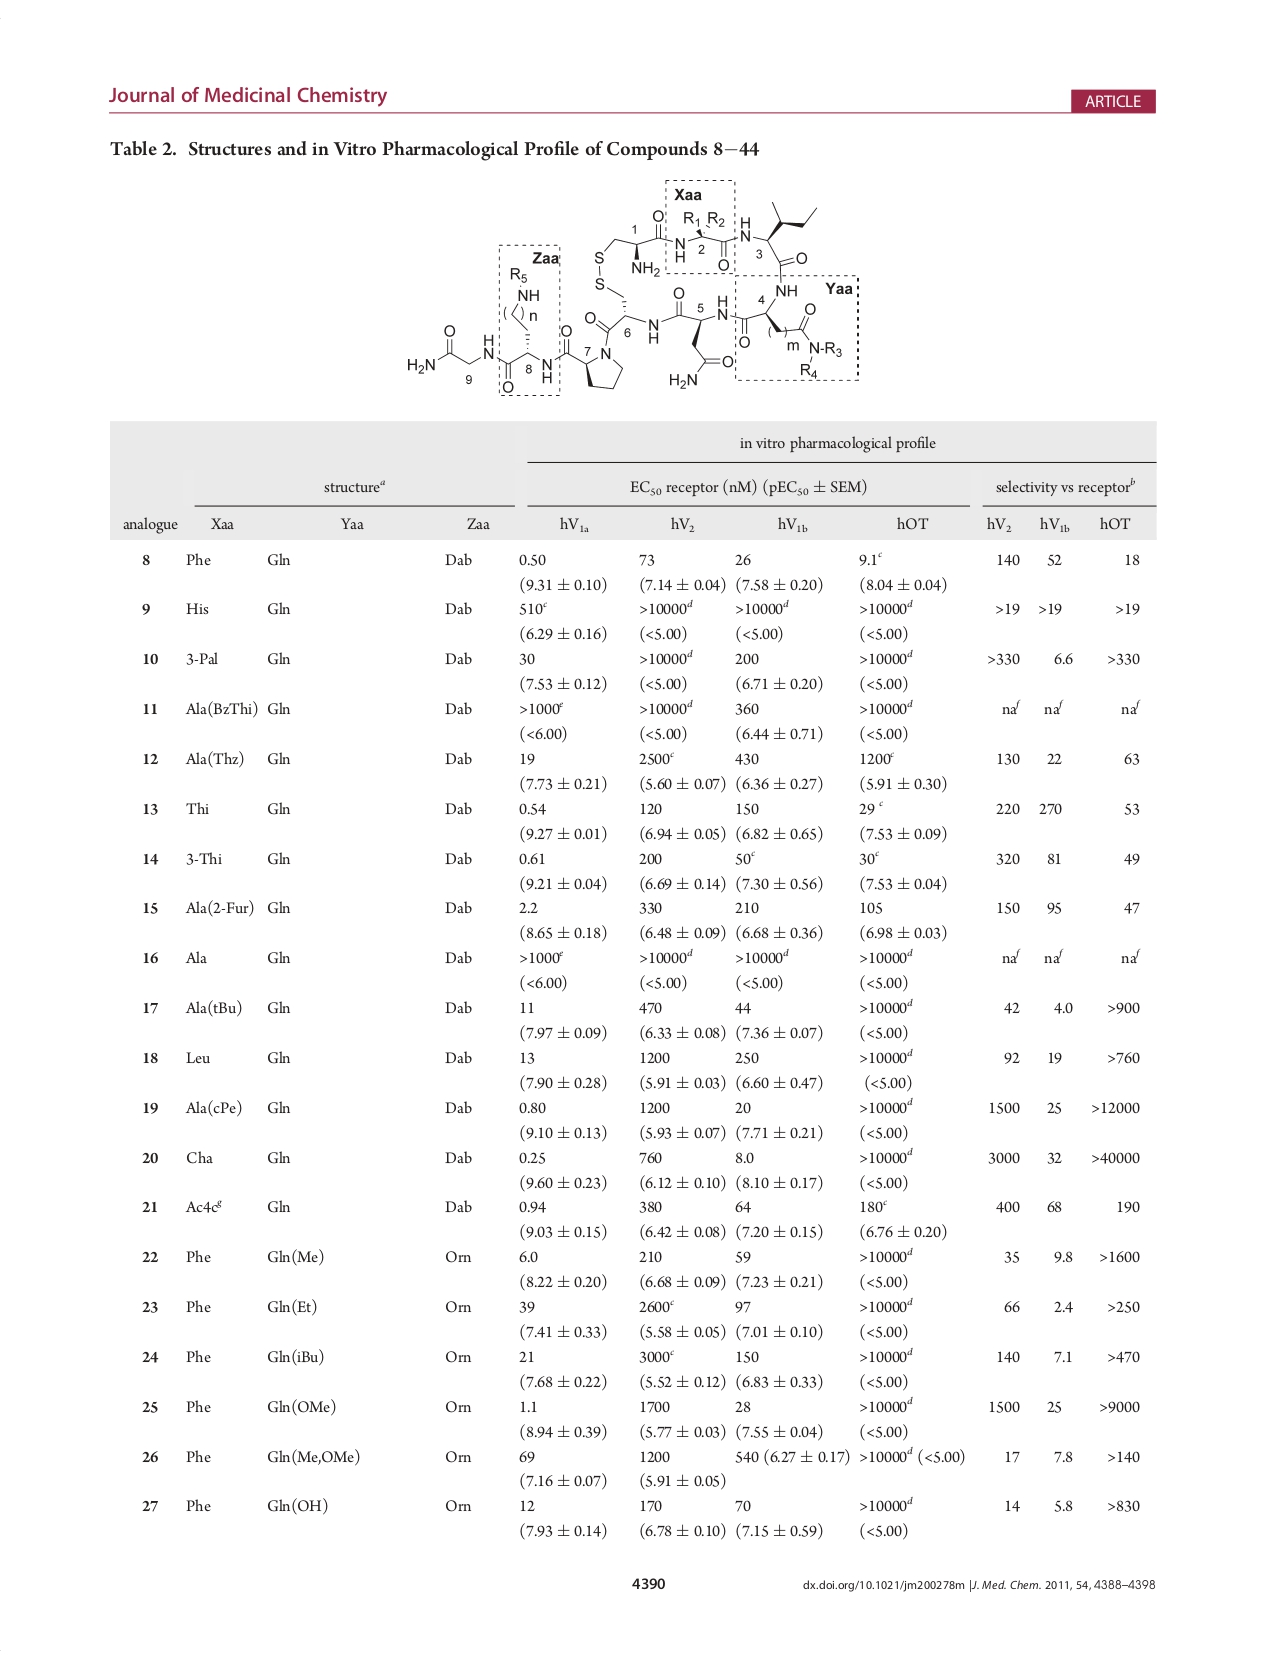exist_molecular: (406, 184, 856, 398)
